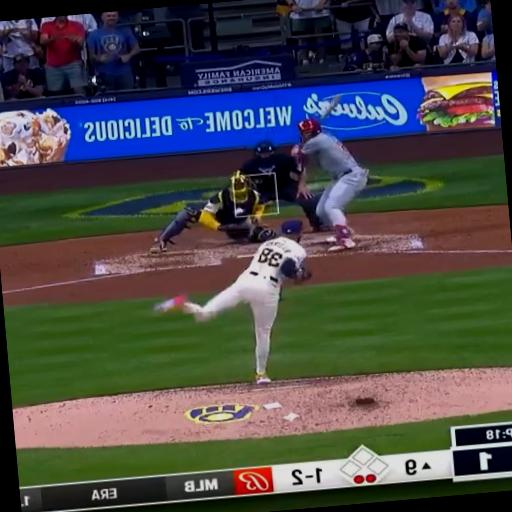bat: (320, 95, 340, 121)
